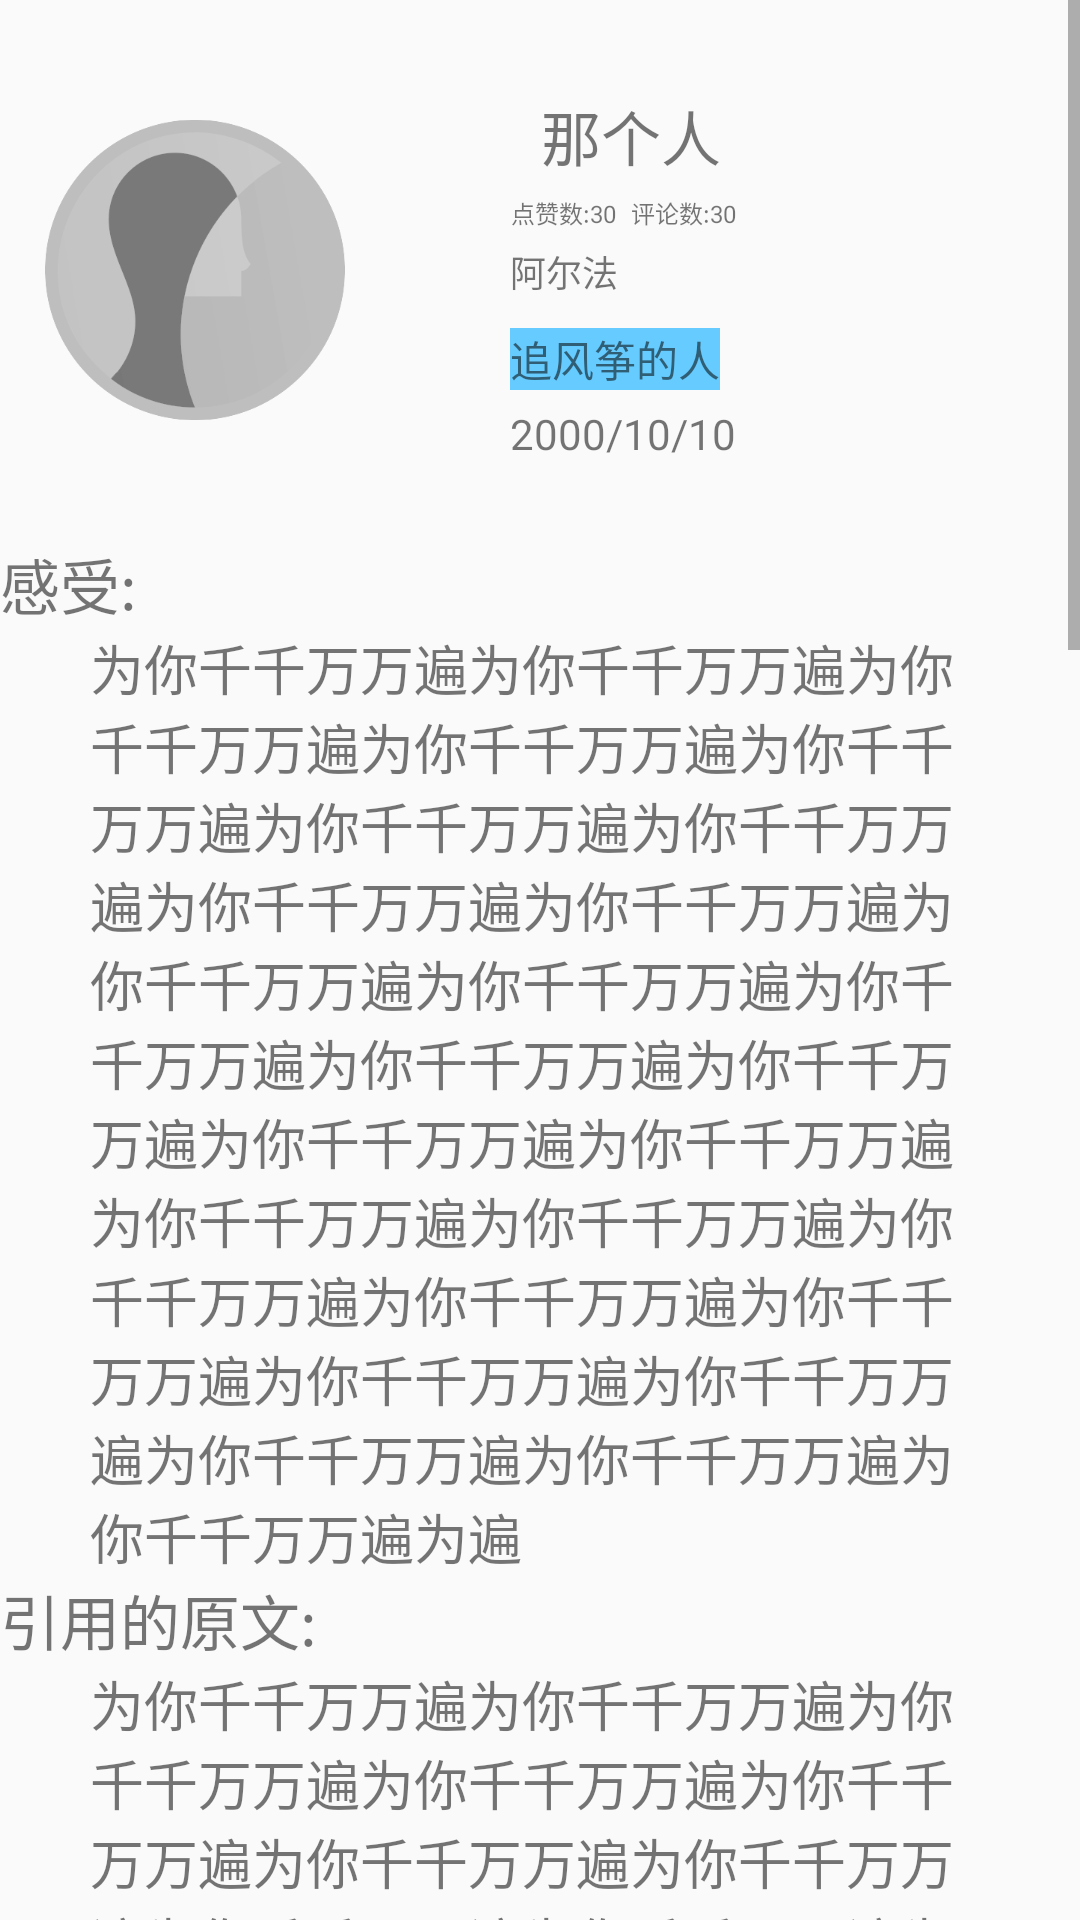

Named icons in this screenshot (1080w x 1920h) and their centers, [x,y]:
ladies: [195,270]
